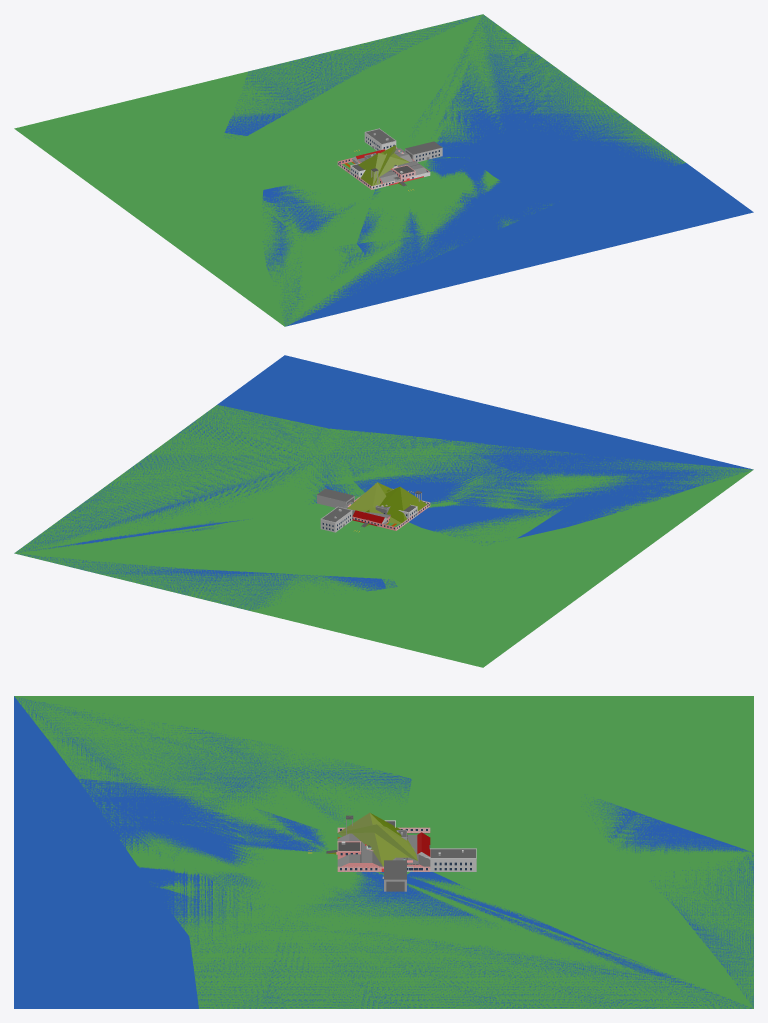
3 views of the same model, one above another, from view 1: azimuth 30°, elevation 25°; view 2: azimuth 150°, elevation 25°; view 3: azimuth 270°, elevation 25° (orthographic). The views are drawn at different scales.
Parts seen in each view (by area): view 1: ko_058_lod0, ko_000_lod0, ko_081_lod0, ko_059_lod0, ko_062_lod0_s1v0, ko_001_lod0, ko_004_lod0; view 2: ko_000_lod0, ko_058_lod0, ko_059_lod0, ko_081_lod0, ko_062_lod0_s1v0, ko_004_lod0, ko_001_lod0, ko_068_lod0; view 3: ko_058_lod0, ko_000_lod0, ko_059_lod0, ko_081_lod0, ko_062_lod0_s1v0, ko_001_lod0, ko_004_lod0, ko_093_lod0_s1v0, ko_068_lod0, ko_062_lod0_s1v0_detail, ko_029_lod0.
Boxes of the visible parts, x1,y1,x2,y2 form: ko_058_lod0: (14,14,518,326); ko_000_lod0: (210,14,685,249); ko_081_lod0: (224,15,685,273); ko_059_lod0: (262,163,753,326); ko_062_lod0_s1v0: (364,129,442,181); ko_001_lod0: (18,124,246,139); ko_004_lod0: (349,152,409,185); ko_000_lod0: (15,405,570,583); ko_058_lod0: (14,437,753,667); ko_059_lod0: (217,355,753,545); ko_081_lod0: (14,404,604,610); ko_062_lod0_s1v0: (317,488,389,532); ko_004_lod0: (379,486,426,522); ko_001_lod0: (382,579,480,666); ko_068_lod0: (347,482,401,524); ko_058_lod0: (14,696,753,1008); ko_000_lod0: (167,763,753,1008); ko_059_lod0: (14,696,411,1008); ko_081_lod0: (77,778,753,1008); ko_062_lod0_s1v0: (337,831,476,891); ko_001_lod0: (569,696,753,807); ko_004_lod0: (338,812,409,866); ko_093_lod0_s1v0: (337,833,430,866); ko_068_lod0: (338,824,417,860); ko_062_lod0_s1v0_detail: (336,830,476,891); ko_029_lod0: (337,815,430,871).
Size of what is drawn, in the model's own units: 4096 by 210 by 4096.
